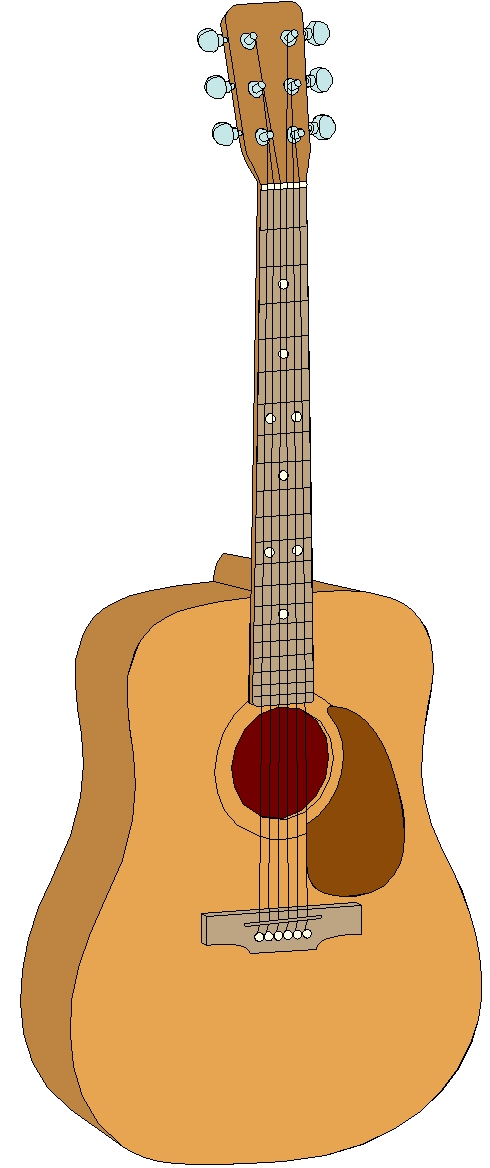guitar: (18, 1, 489, 1153)
